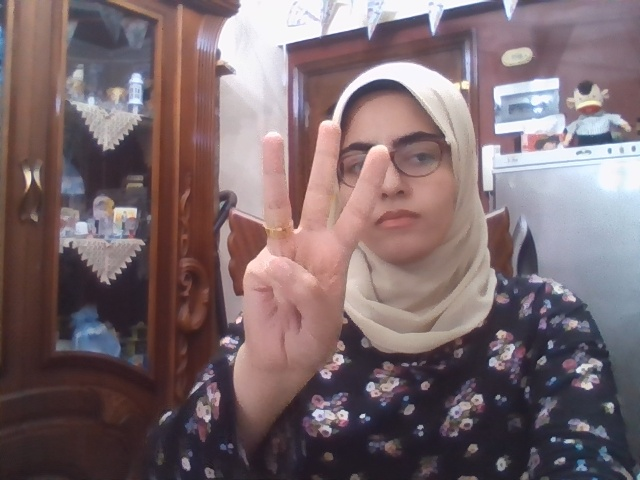W: (244, 120, 390, 373)
